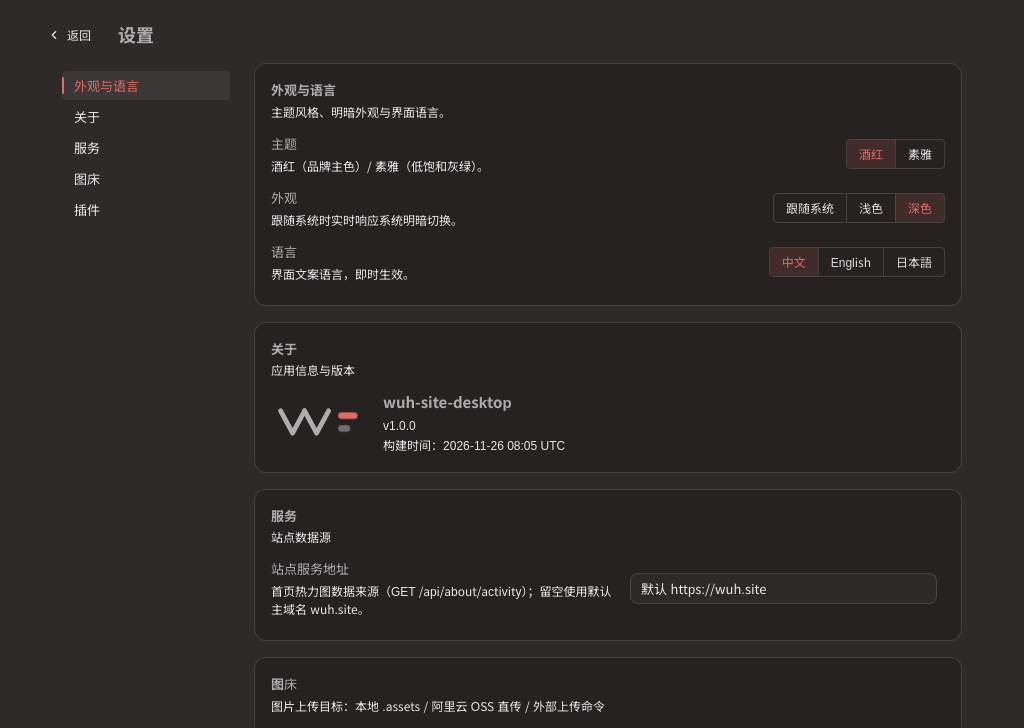
Test case: 设置页 · 外观与语言（SideMenu 退役回归修复） › 点「English」切换语言并即时反映标签（locale 持久化锚点）
Click the radio button labelled "English" at (850, 262), box [818,248,883,276]
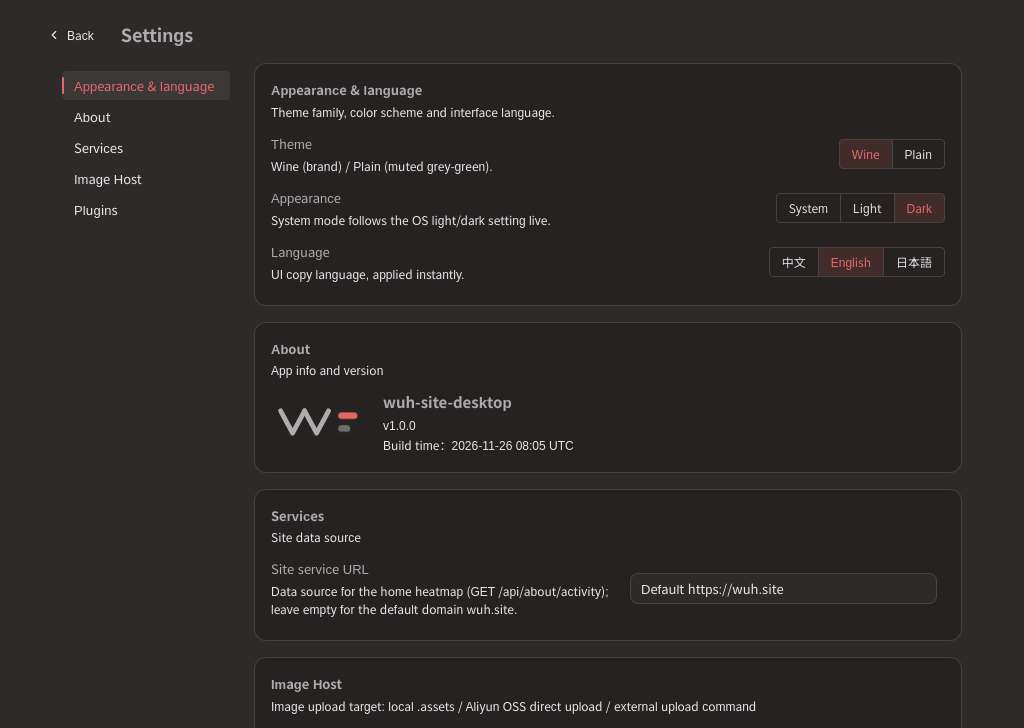
Check: the element named "Theme" is shown, box [839,138,945,168]
